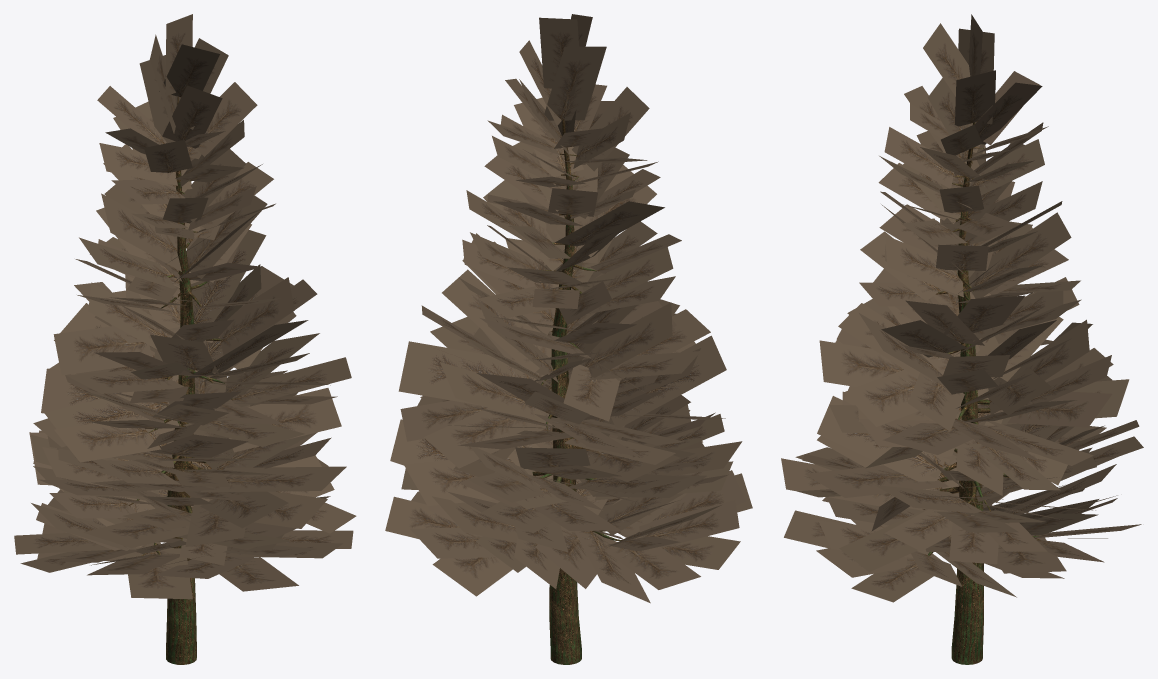
Rendered from sb_obj_nature001_Tree02b.fbx.
The picture shows the model from 3 angles, left to right: view 1: azimuth 30°, elevation 25°; view 2: azimuth 150°, elevation 25°; view 3: azimuth 270°, elevation 25°; orthographic projection.
Visible parts, largest first — view 1: tree02b_leaf, sb_obj_nature001_Tree02b; view 2: tree02b_leaf, sb_obj_nature001_Tree02b; view 3: tree02b_leaf, sb_obj_nature001_Tree02b.
Boxes of the visible parts, x1,y1,x2,y2 form: tree02b_leaf: (14, 14, 356, 599); sb_obj_nature001_Tree02b: (129, 96, 231, 664); tree02b_leaf: (385, 14, 752, 603); sb_obj_nature001_Tree02b: (532, 118, 621, 664); tree02b_leaf: (781, 14, 1143, 602); sb_obj_nature001_Tree02b: (924, 122, 1040, 664).
Size of the model in its own units: 3.61 by 7.18 by 3.7.
